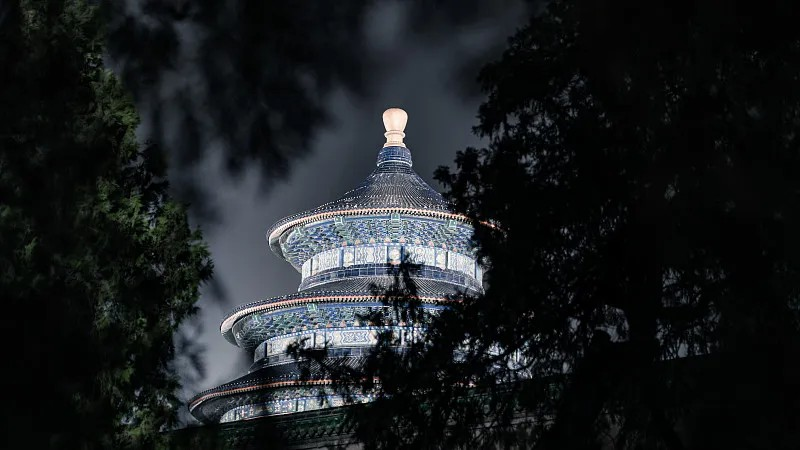Heaven: (189, 108, 557, 427)
